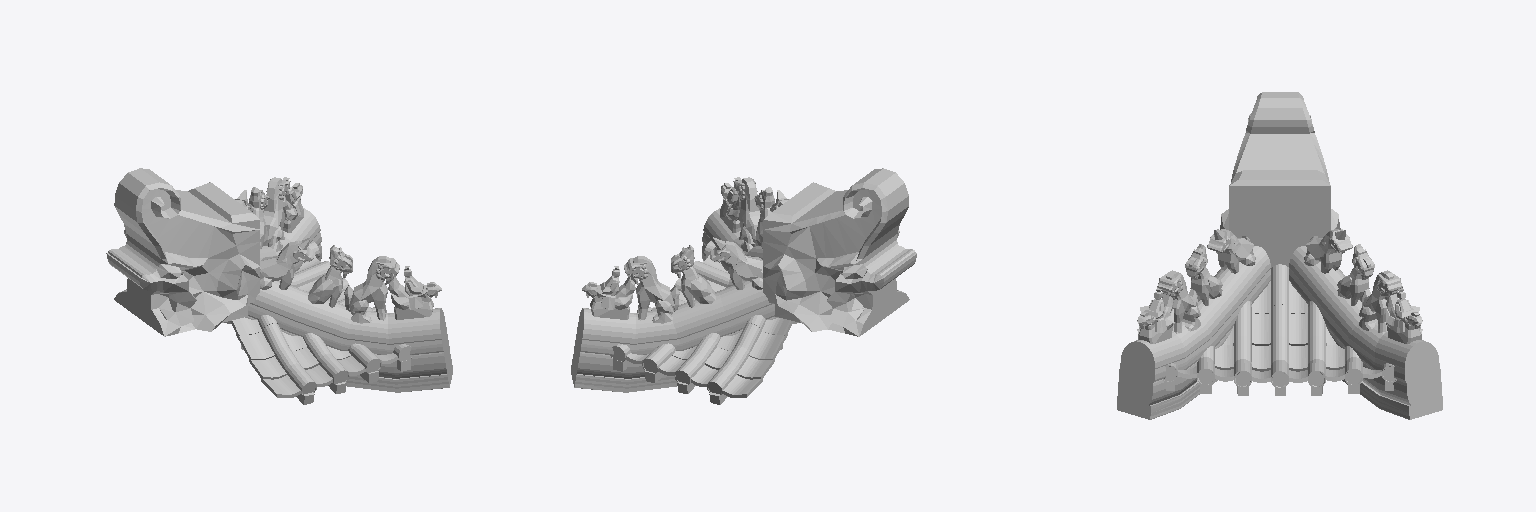
File: Eaves Roof.obj
3 views of the same model, side by side, from view 1: azimuth 30°, elevation 25°; view 2: azimuth 150°, elevation 25°; view 3: azimuth 270°, elevation 25° (orthographic).
Visible parts, largest first — view 1: Eaves_Roof:polySurface7011 Eaves_Roof:polySurface1, Eaves_Roof:FlowerPl11 Eaves_Roof:SideRoof9 Eaves_Roof:polySurfac; view 2: Eaves_Roof:polySurface7011 Eaves_Roof:polySurface1, Eaves_Roof:FlowerPl11 Eaves_Roof:SideRoof9 Eaves_Roof:polySurfac; view 3: Eaves_Roof:polySurface7011 Eaves_Roof:polySurface1, Eaves_Roof:FlowerPl11 Eaves_Roof:SideRoof9 Eaves_Roof:polySurfac, Eaves_Roof:FlowerPl11 Eaves_Roof:polySurface7038 Eaves_Roof:poly, Eaves_Roof:FlowerPl11 Eaves_Roof:polySurface7042 Eaves_Roof:poly.
Boxes of the visible parts, x1=… form: Eaves_Roof:polySurface7011 Eaves_Roof:polySurface1: x1=224, y1=177, x2=452, y2=404; Eaves_Roof:FlowerPl11 Eaves_Roof:SideRoof9 Eaves_Roof:polySurfac: x1=106, y1=168, x2=259, y2=336; Eaves_Roof:polySurface7011 Eaves_Roof:polySurface1: x1=571, y1=177, x2=798, y2=404; Eaves_Roof:FlowerPl11 Eaves_Roof:SideRoof9 Eaves_Roof:polySurfac: x1=763, y1=168, x2=916, y2=336; Eaves_Roof:polySurface7011 Eaves_Roof:polySurface1: x1=1117, y1=229, x2=1442, y2=419; Eaves_Roof:FlowerPl11 Eaves_Roof:SideRoof9 Eaves_Roof:polySurfac: x1=1216, y1=92, x2=1344, y2=267; Eaves_Roof:FlowerPl11 Eaves_Roof:polySurface7038 Eaves_Roof:poly: x1=1271, y1=264, x2=1288, y2=307; Eaves_Roof:FlowerPl11 Eaves_Roof:polySurface7042 Eaves_Roof:poly: x1=1271, y1=301, x2=1288, y2=339.
Size of the model in its own units: 2.4 by 1.84 by 2.56.